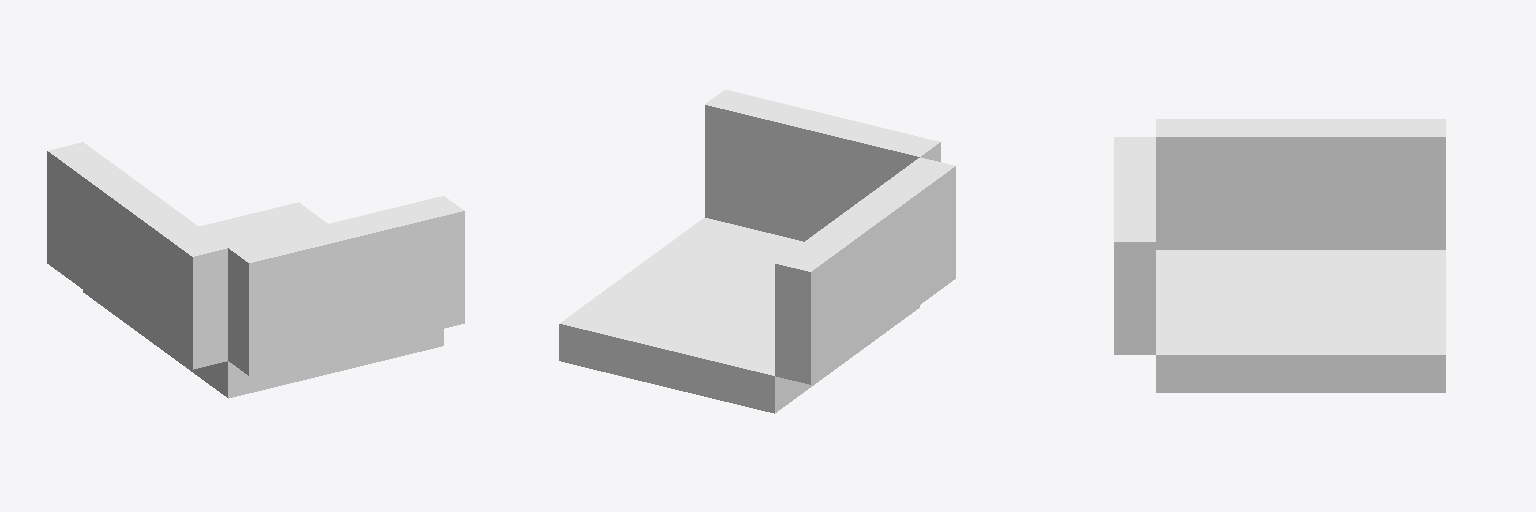
Rendered from order18.vox.obj.
The picture shows the model from 3 angles: view 1: azimuth 30°, elevation 25°; view 2: azimuth 150°, elevation 25°; view 3: azimuth 270°, elevation 25°; orthographic projection.
Visible parts, largest first — view 1: object 1; view 2: object 1; view 3: object 1.
Part boxes in pixels (bbox=[...]): object 1: bbox=[47, 142, 464, 398]; object 1: bbox=[559, 90, 955, 413]; object 1: bbox=[1114, 119, 1445, 392].
Size of the model in its own units: 14 by 8 by 16.